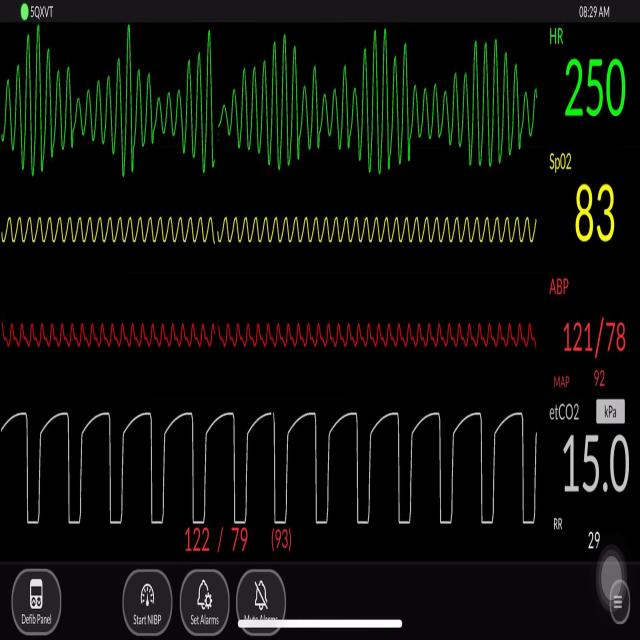danger: (3, 29, 540, 187)
